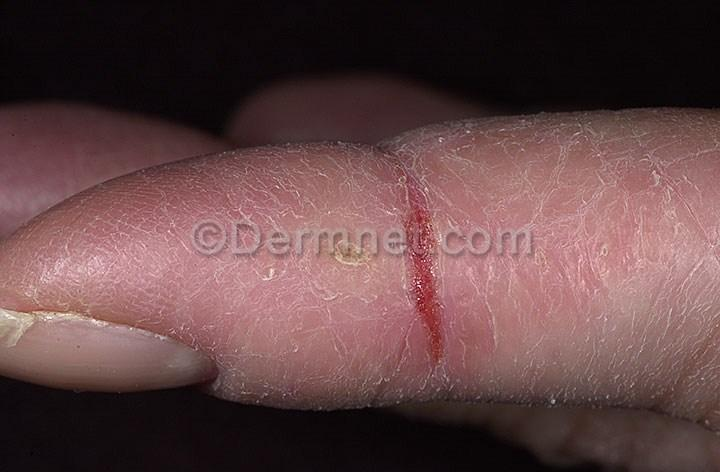Eczema: (333, 150, 474, 353)
